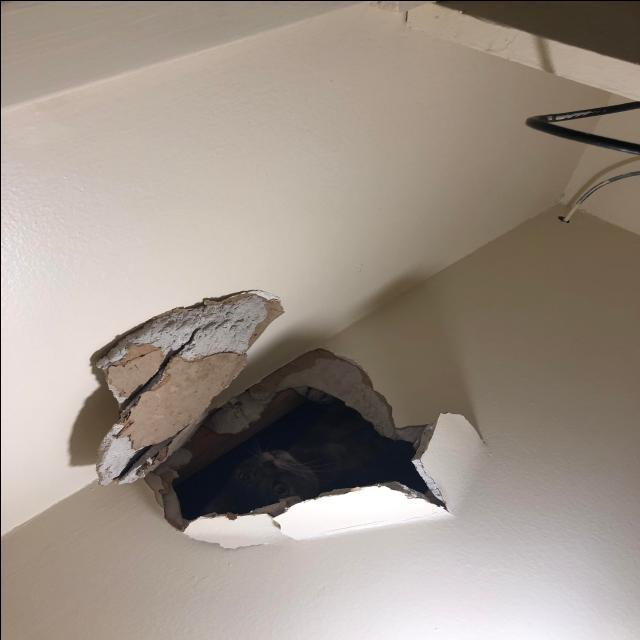Crack: (167, 366, 447, 524)
